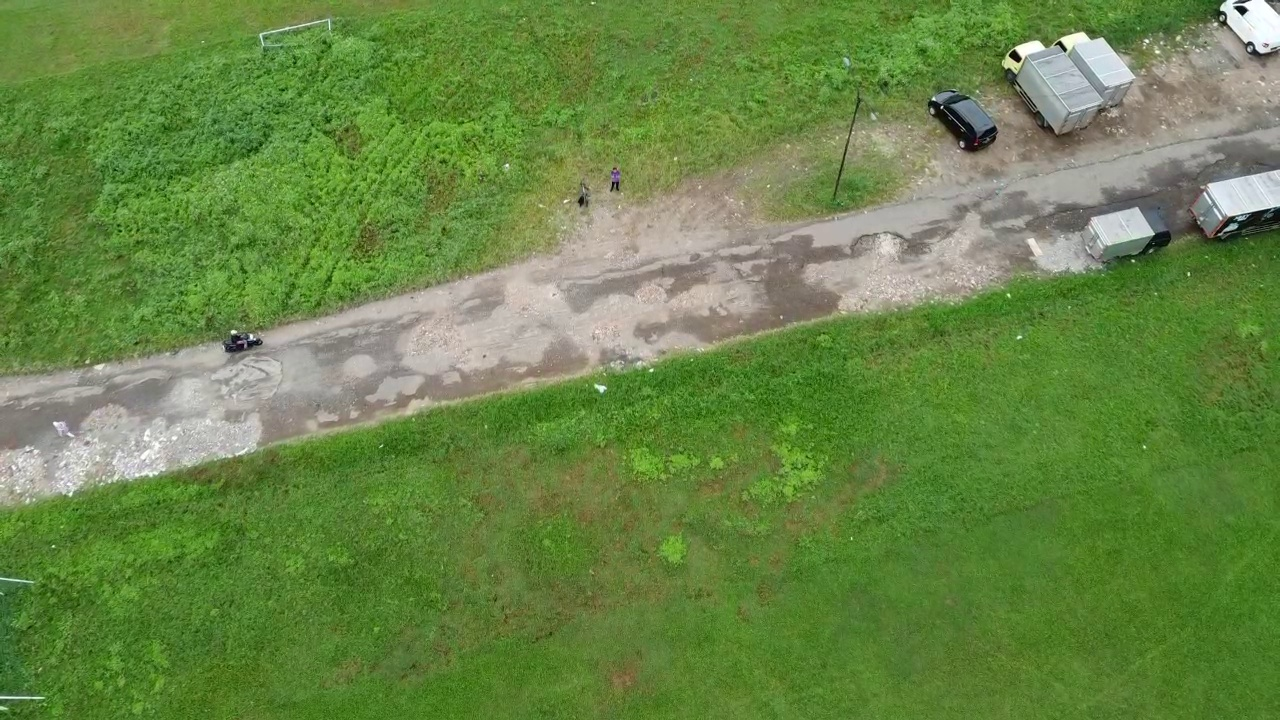mobil: (914, 81, 1006, 156), (1211, 1, 1280, 65)
